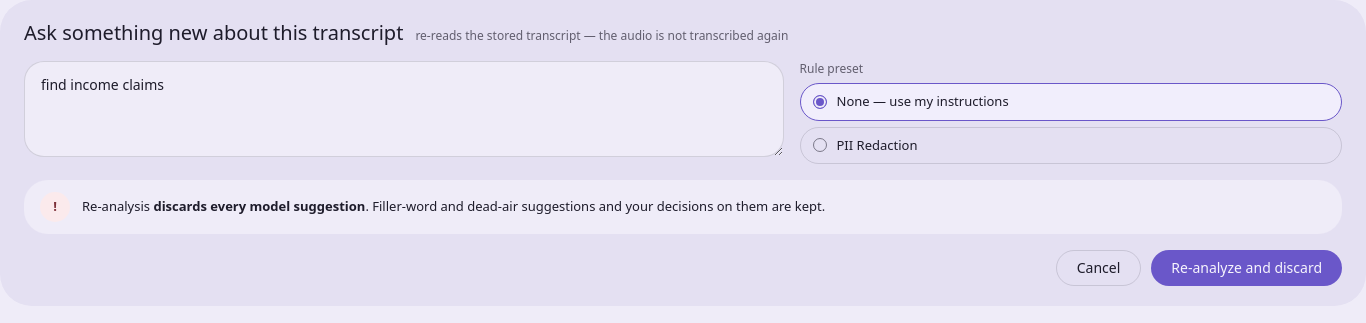
Scenario: names the preset that has taken the prompt's place
Click the radio button labelled "PII Redaction".
click(877, 144)  # box [800, 126, 1342, 164]
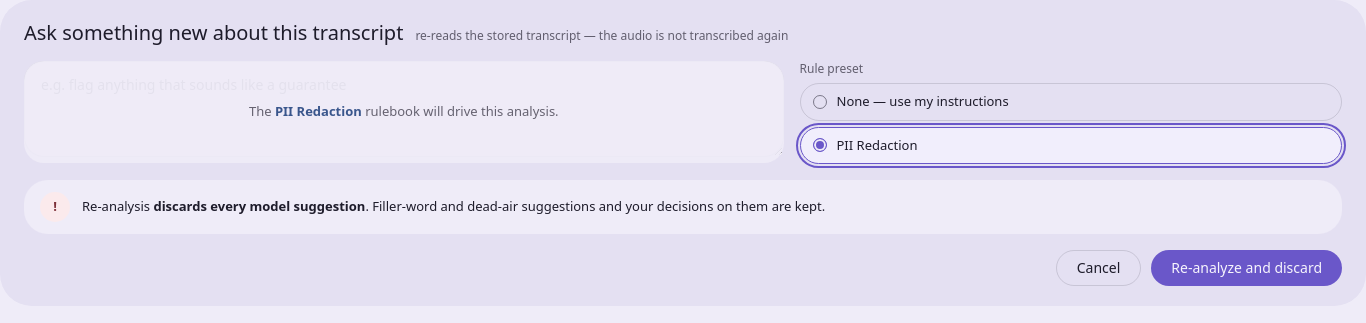
Expected: the text box named "Ask something new about this transcript" is disabled, [24, 61, 784, 157]
Expected: the text "The PII Redaction rulebook will drive this analysis." is shown, [249, 102, 559, 122]
